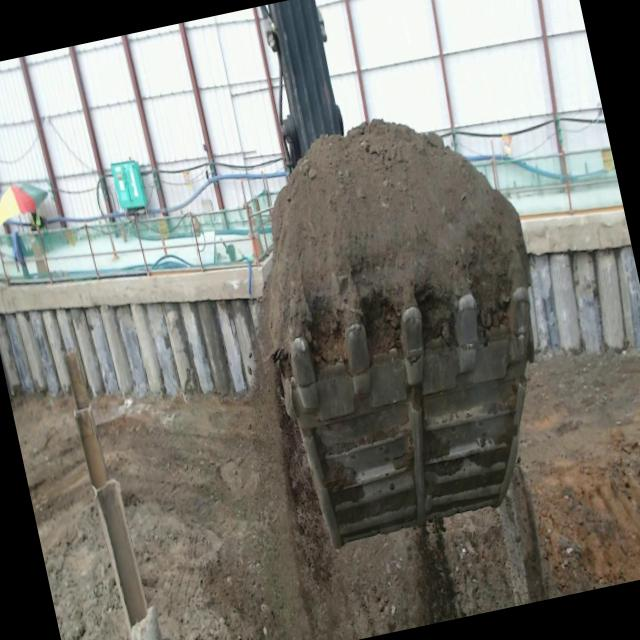red-sand: (93, 396, 440, 640), (262, 119, 529, 372), (520, 353, 640, 599), (10, 396, 130, 640), (444, 510, 513, 620)
